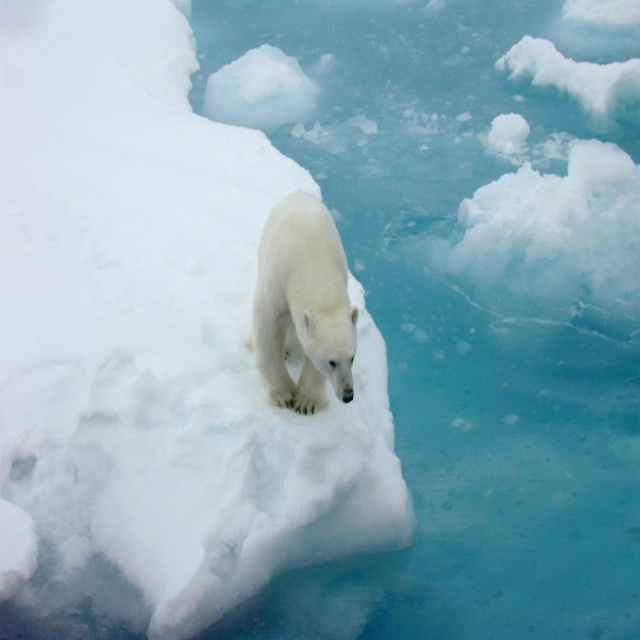Polar bear: (247, 188, 355, 416)
